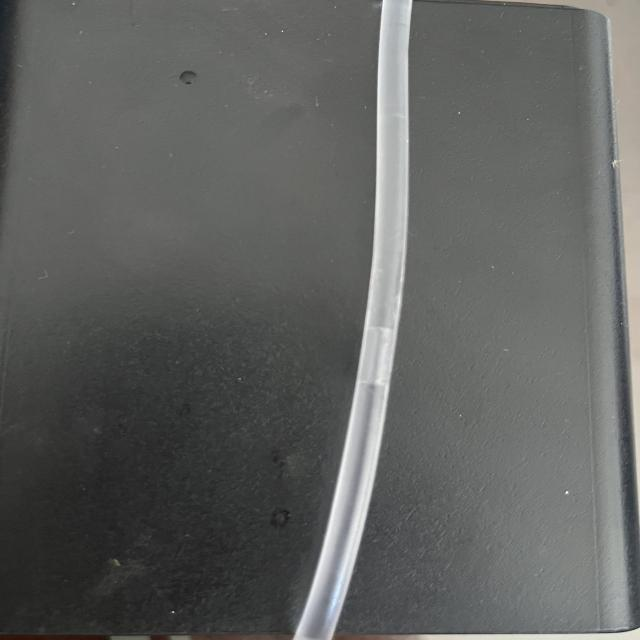bubble: (354, 312, 405, 404)
